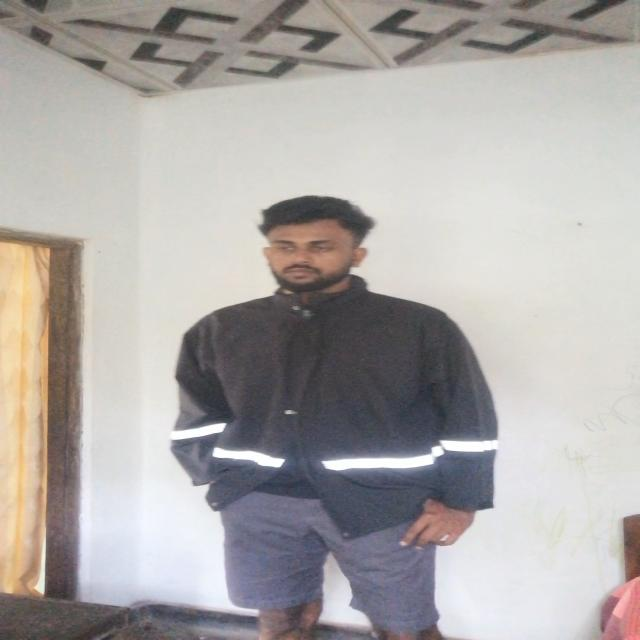Jacket_Wearer: (152, 276, 555, 521)
